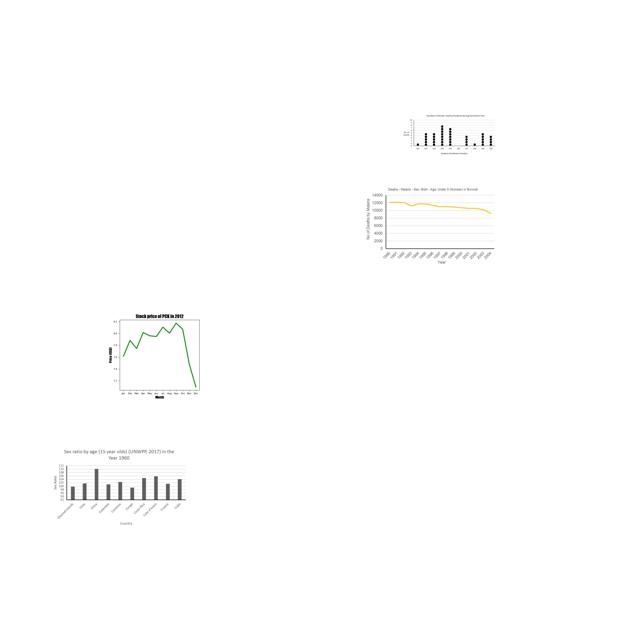Graph: (92, 309, 224, 400), (50, 447, 188, 527), (364, 185, 496, 266), (401, 113, 496, 155)
